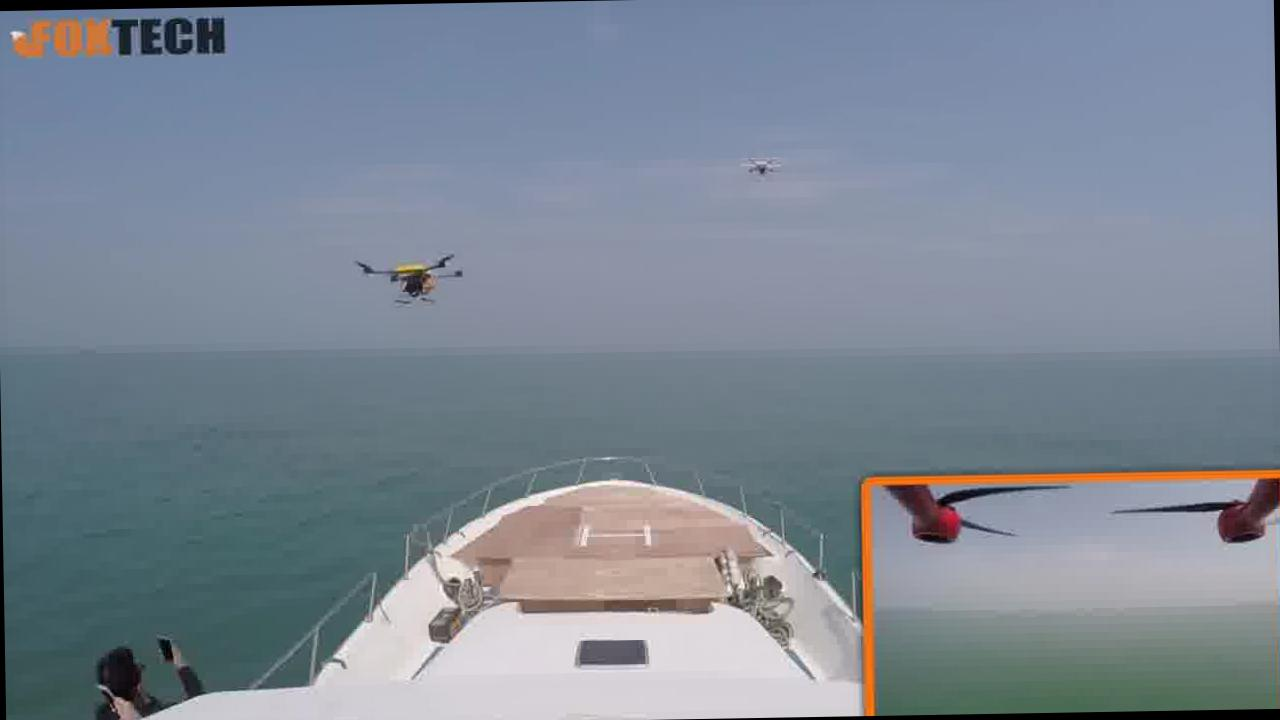drone: (350, 247, 470, 308), (738, 154, 784, 178)
